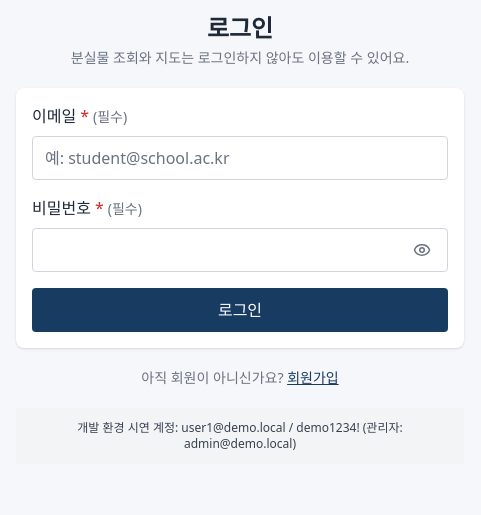
LoginPage › 빈 값이면 서버에 보내지 않고 오류를 보여준다
Click the button "로그인" at (240, 310), box [32,288,448,332]
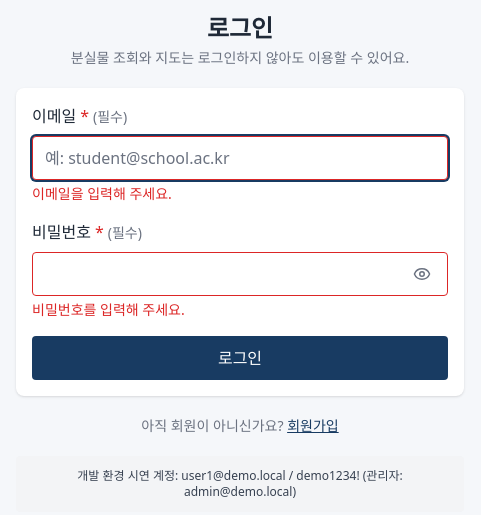
Expected: the text "이메일을 입력해 주세요." is shown, [32,184,172,203]
